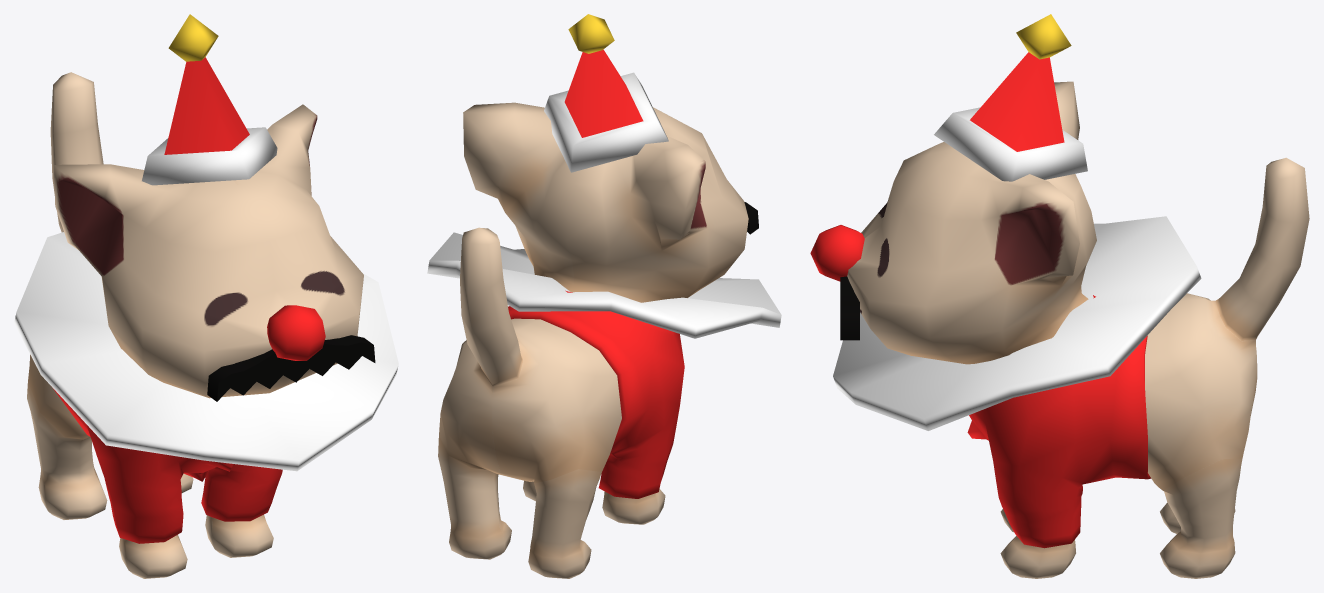
The model's file is Performer Cat01.fbx.
The picture shows the model from 3 angles, left to right: view 1: azimuth 30°, elevation 25°; view 2: azimuth 150°, elevation 25°; view 3: azimuth 270°, elevation 25°; orthographic projection. The views are drawn at different scales.
Parts seen in each view (by area): view 1: Cat_Base, Performer_Cat_Neck, Performer_Cat_Shirt, Performer_Cat_Hat, Performer_Cat_Face; view 2: Cat_Base, Performer_Cat_Shirt, Performer_Cat_Neck, Performer_Cat_Hat; view 3: Cat_Base, Performer_Cat_Neck, Performer_Cat_Shirt, Performer_Cat_Hat, Performer_Cat_Face.
Boxes of the visible parts, x1=… form: Cat_Base: x1=27, y1=72, x2=363, y2=578; Performer_Cat_Neck: x1=14, y1=232, x2=398, y2=471; Performer_Cat_Shirt: x1=53, y1=388, x2=282, y2=543; Performer_Cat_Hat: x1=142, y1=14, x2=277, y2=185; Performer_Cat_Face: x1=207, y1=305, x2=375, y2=401; Cat_Base: x1=438, y1=102, x2=748, y2=578; Performer_Cat_Shirt: x1=508, y1=290, x2=684, y2=498; Performer_Cat_Neck: x1=427, y1=232, x2=781, y2=338; Performer_Cat_Hat: x1=544, y1=14, x2=668, y2=172; Cat_Base: x1=847, y1=81, x2=1309, y2=578; Performer_Cat_Neck: x1=833, y1=216, x2=1201, y2=430; Performer_Cat_Shirt: x1=967, y1=295, x2=1151, y2=548; Performer_Cat_Hat: x1=934, y1=14, x2=1087, y2=181; Performer_Cat_Face: x1=810, y1=225, x2=864, y2=340.
Size of the model in its own units: 2.3 by 2.99 by 3.53.
5 materials, 1 textured.
